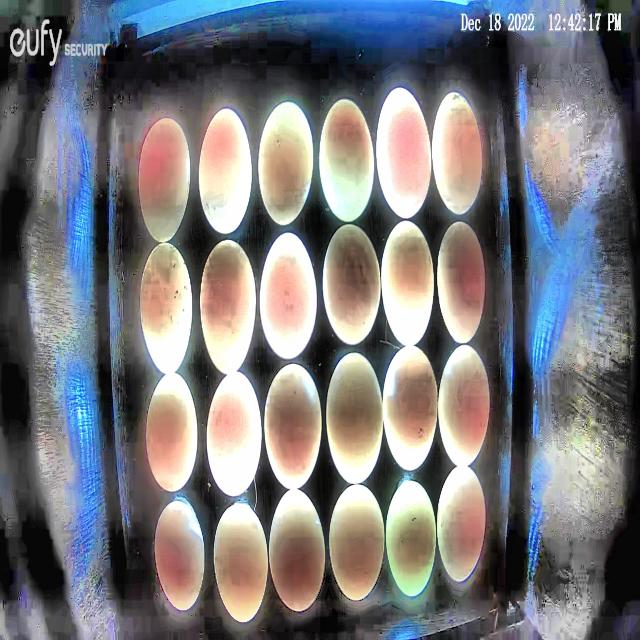UF: (199, 238, 257, 377), (325, 349, 384, 485), (258, 229, 318, 361), (321, 223, 382, 348), (264, 361, 322, 492), (376, 86, 432, 221), (197, 106, 254, 237), (206, 369, 264, 497), (318, 96, 376, 222), (258, 99, 315, 227), (382, 344, 438, 473), (140, 240, 193, 375), (269, 488, 326, 612), (138, 116, 192, 245), (380, 219, 434, 347), (213, 502, 269, 624), (145, 370, 199, 494), (329, 484, 385, 602), (439, 344, 491, 468), (432, 90, 483, 216), (436, 220, 486, 346), (385, 480, 437, 598), (437, 464, 486, 582), (154, 500, 206, 611)
